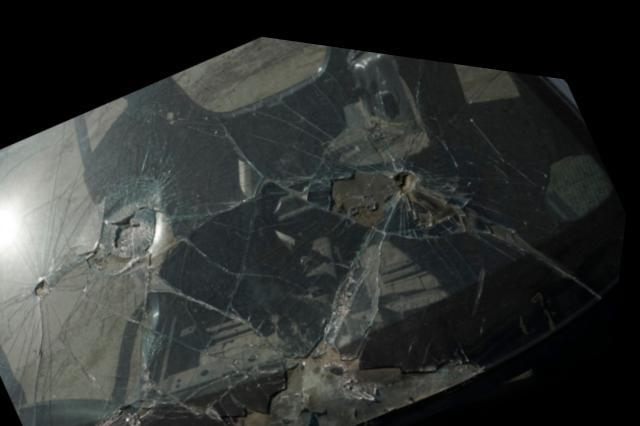glass shatter: (0, 29, 629, 426)
